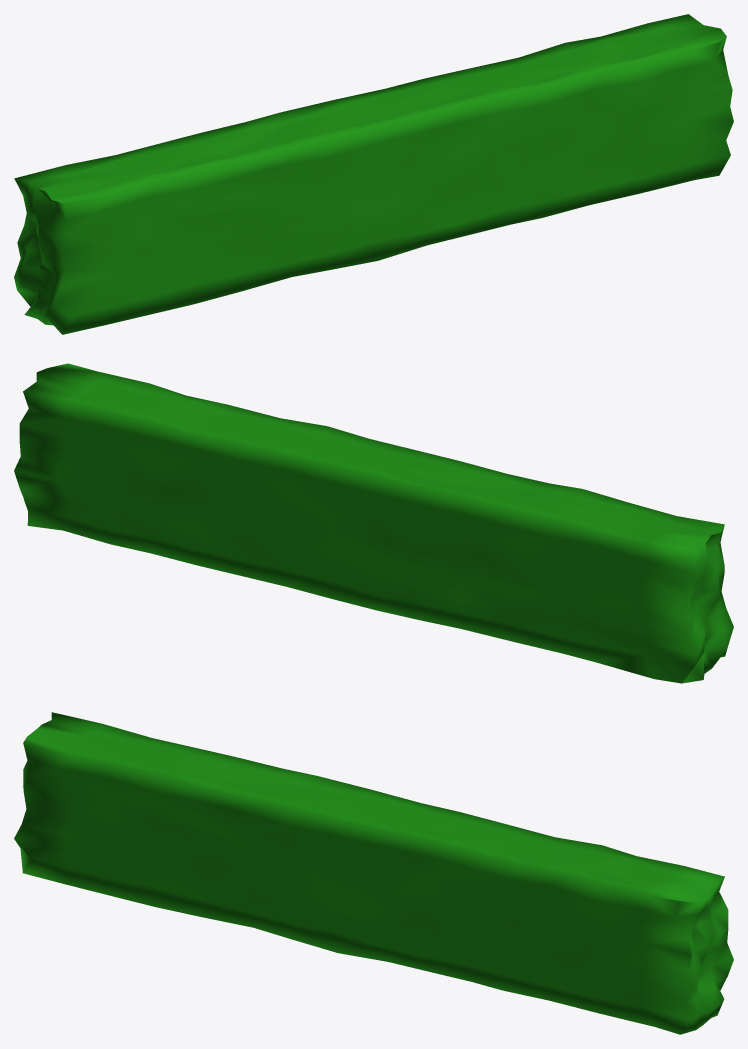
The model's file is cpsMap_Hedge.obj.
The picture shows the model from 3 angles, top to bottom: view 1: azimuth 30°, elevation 25°; view 2: azimuth 150°, elevation 25°; view 3: azimuth 330°, elevation 25°; orthographic projection.
Parts seen in each view (by area): view 1: Hedge.001_Cube_Cube.002; view 2: Hedge.001_Cube_Cube.002; view 3: Hedge.001_Cube_Cube.002.
Part boxes in pixels (x1,y1,x2,y2): Hedge.001_Cube_Cube.002: [14, 14, 733, 334]; Hedge.001_Cube_Cube.002: [14, 363, 733, 683]; Hedge.001_Cube_Cube.002: [14, 712, 733, 1034].
Bounding box in the file's own units: 14.06 × 2.66 × 1.41.
